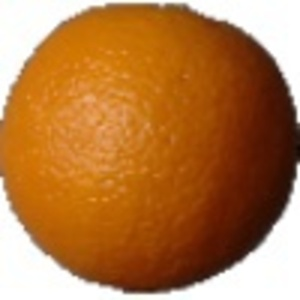laranja: (3, 4, 298, 293)
